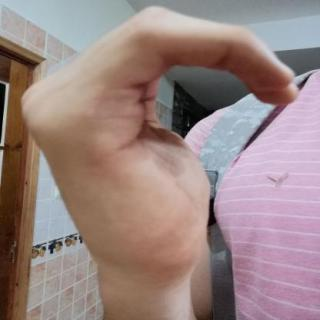HAA: (10, 1, 308, 280)
